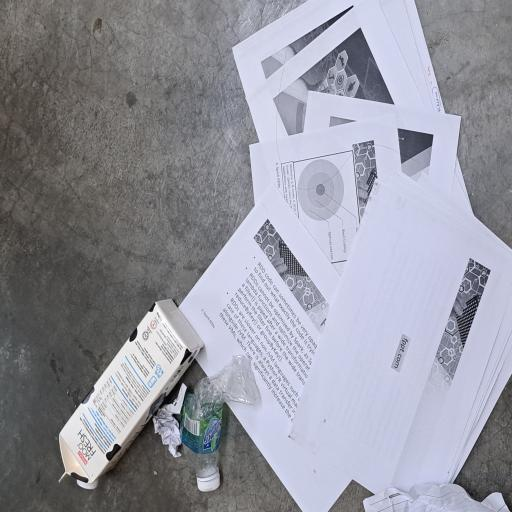drink carton: (22, 74, 161, 273)
paper: (0, 237, 384, 512), (40, 203, 98, 251)
plastic bottle: (27, 241, 118, 345)
plastic bottle cap: (16, 263, 33, 294), (17, 101, 25, 131)
